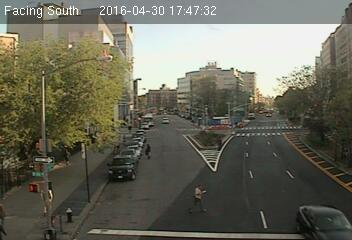neg: (266, 156, 294, 193), (131, 183, 159, 220), (300, 34, 326, 69), (33, 46, 58, 80), (214, 31, 239, 64), (75, 115, 98, 146), (195, 137, 217, 166), (286, 98, 308, 127), (28, 139, 49, 167), (93, 37, 113, 65), (152, 77, 172, 105), (261, 113, 281, 140), (164, 33, 184, 60), (129, 102, 148, 127), (62, 203, 79, 225), (316, 170, 333, 192), (257, 56, 273, 76), (93, 174, 107, 193), (210, 85, 223, 103)
pos: (189, 182, 213, 213), (141, 142, 156, 162)
